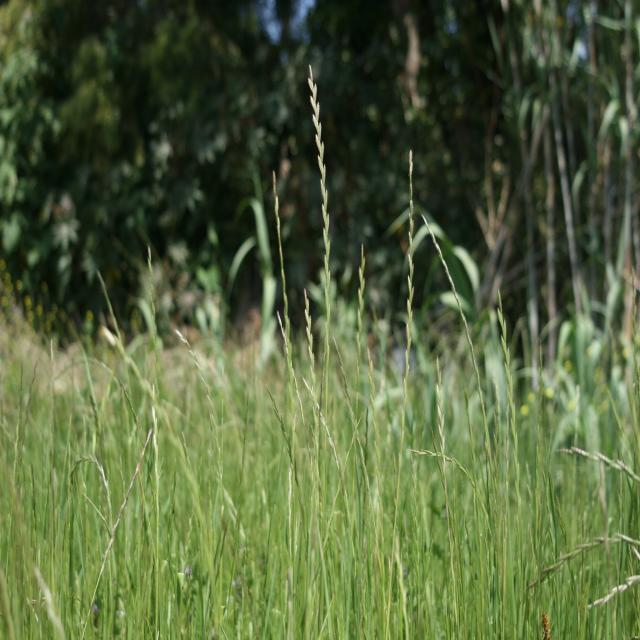Lolium: (427, 219, 492, 459), (175, 330, 225, 522), (332, 339, 377, 524), (302, 375, 349, 542), (306, 65, 334, 318), (100, 432, 152, 566), (531, 531, 640, 588), (10, 343, 44, 505), (398, 149, 415, 471), (275, 166, 296, 414), (499, 291, 521, 524), (146, 244, 167, 479), (299, 291, 321, 486), (72, 452, 115, 532), (564, 439, 640, 479), (532, 338, 543, 520), (354, 244, 366, 391), (631, 271, 640, 410)
